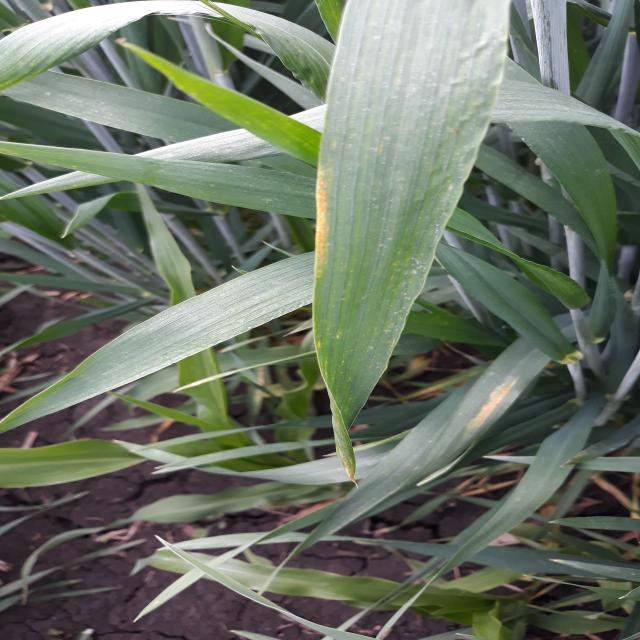yellow_rust: (302, 74, 504, 492), (452, 378, 542, 438)
